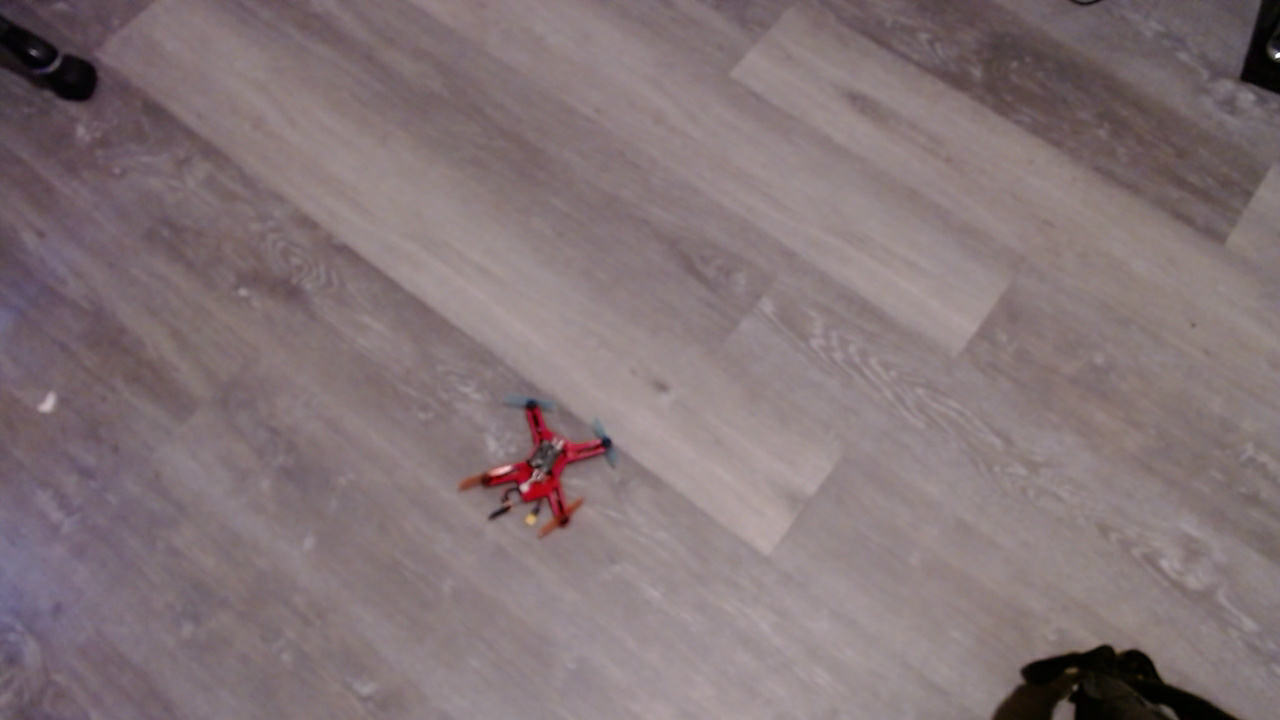crazyflie: (464, 395, 610, 543)
